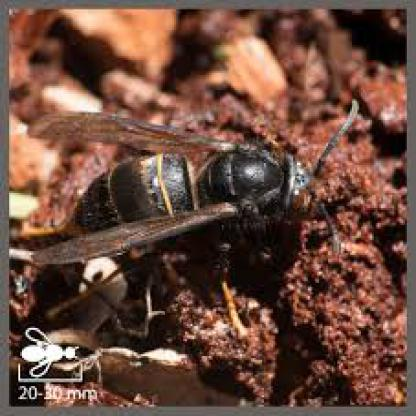asian: (24, 94, 366, 326)
